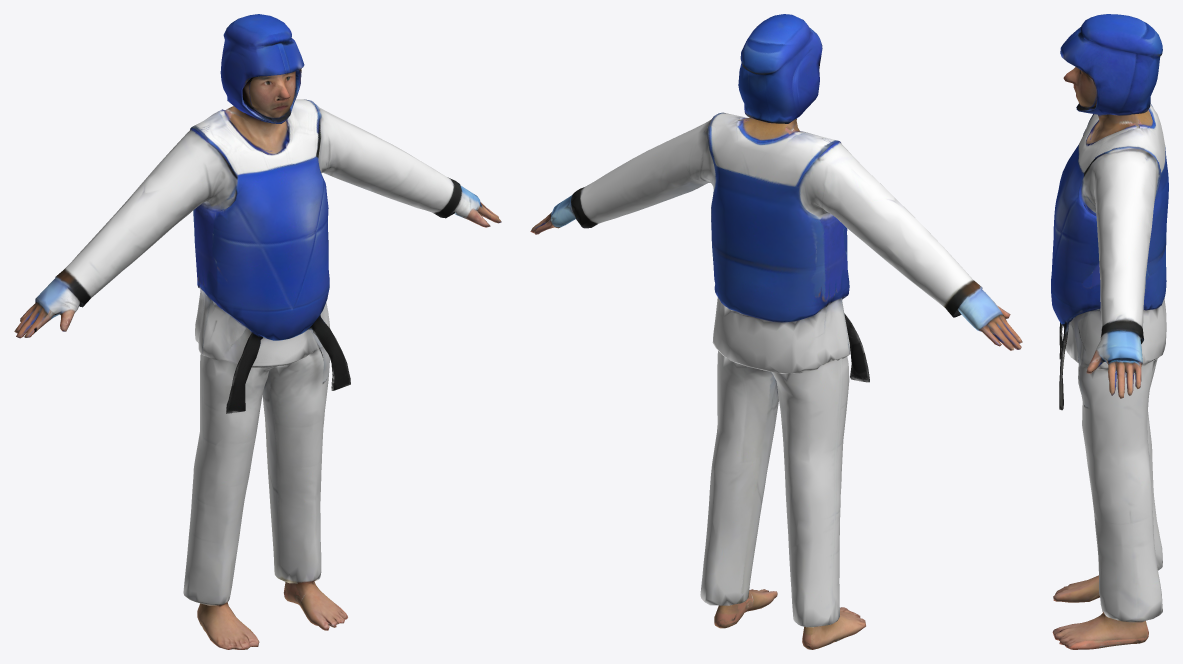
File: martial-gear.glb
The picture shows the model from 3 angles, left to right: view 1: azimuth 30°, elevation 25°; view 2: azimuth 150°, elevation 25°; view 3: azimuth 270°, elevation 25°; orthographic projection.
Size of the model in its own units: 1.69 by 2 by 0.3554.
1 material, 1 textured.
